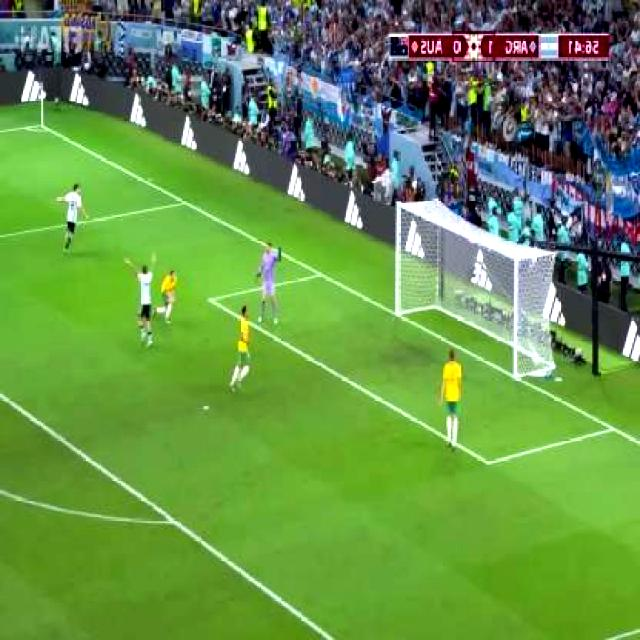bigarea_top_outter: (177, 194, 191, 211)
corner: (29, 123, 46, 134)
smallarea_bottom_inner: (477, 446, 497, 480)
smallarea_bottom_outter: (602, 416, 620, 442)
smallarea_top_inner: (200, 288, 223, 314)
smallarea_top_outter: (312, 264, 326, 284)
top_arc_area_intersection: (157, 506, 185, 537)
